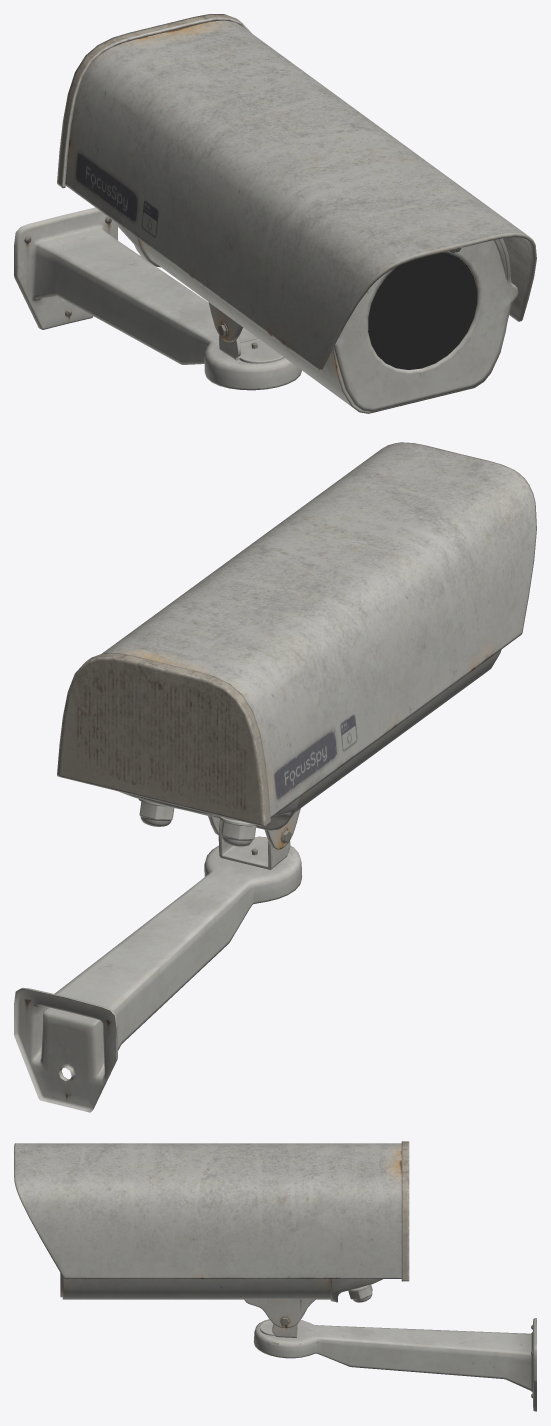
Rendered from security_camera_01.glb.
3 views of the same model, one above another, from view 1: azimuth 30°, elevation 25°; view 2: azimuth 150°, elevation 25°; view 3: azimuth 270°, elevation 25° (orthographic). The views are drawn at different scales.
Visible parts, largest first — view 1: security_camera_01; view 2: security_camera_01; view 3: security_camera_01.
Part boxes in pixels (x1=…): security_camera_01: x1=14, y1=14, x2=536, y2=413; security_camera_01: x1=14, y1=442, x2=536, y2=1112; security_camera_01: x1=14, y1=1141, x2=536, y2=1411.
Bounding box in the file's own units: 0.1696 × 0.286 × 0.5537.
Materials: 2 (2 with a texture image).
